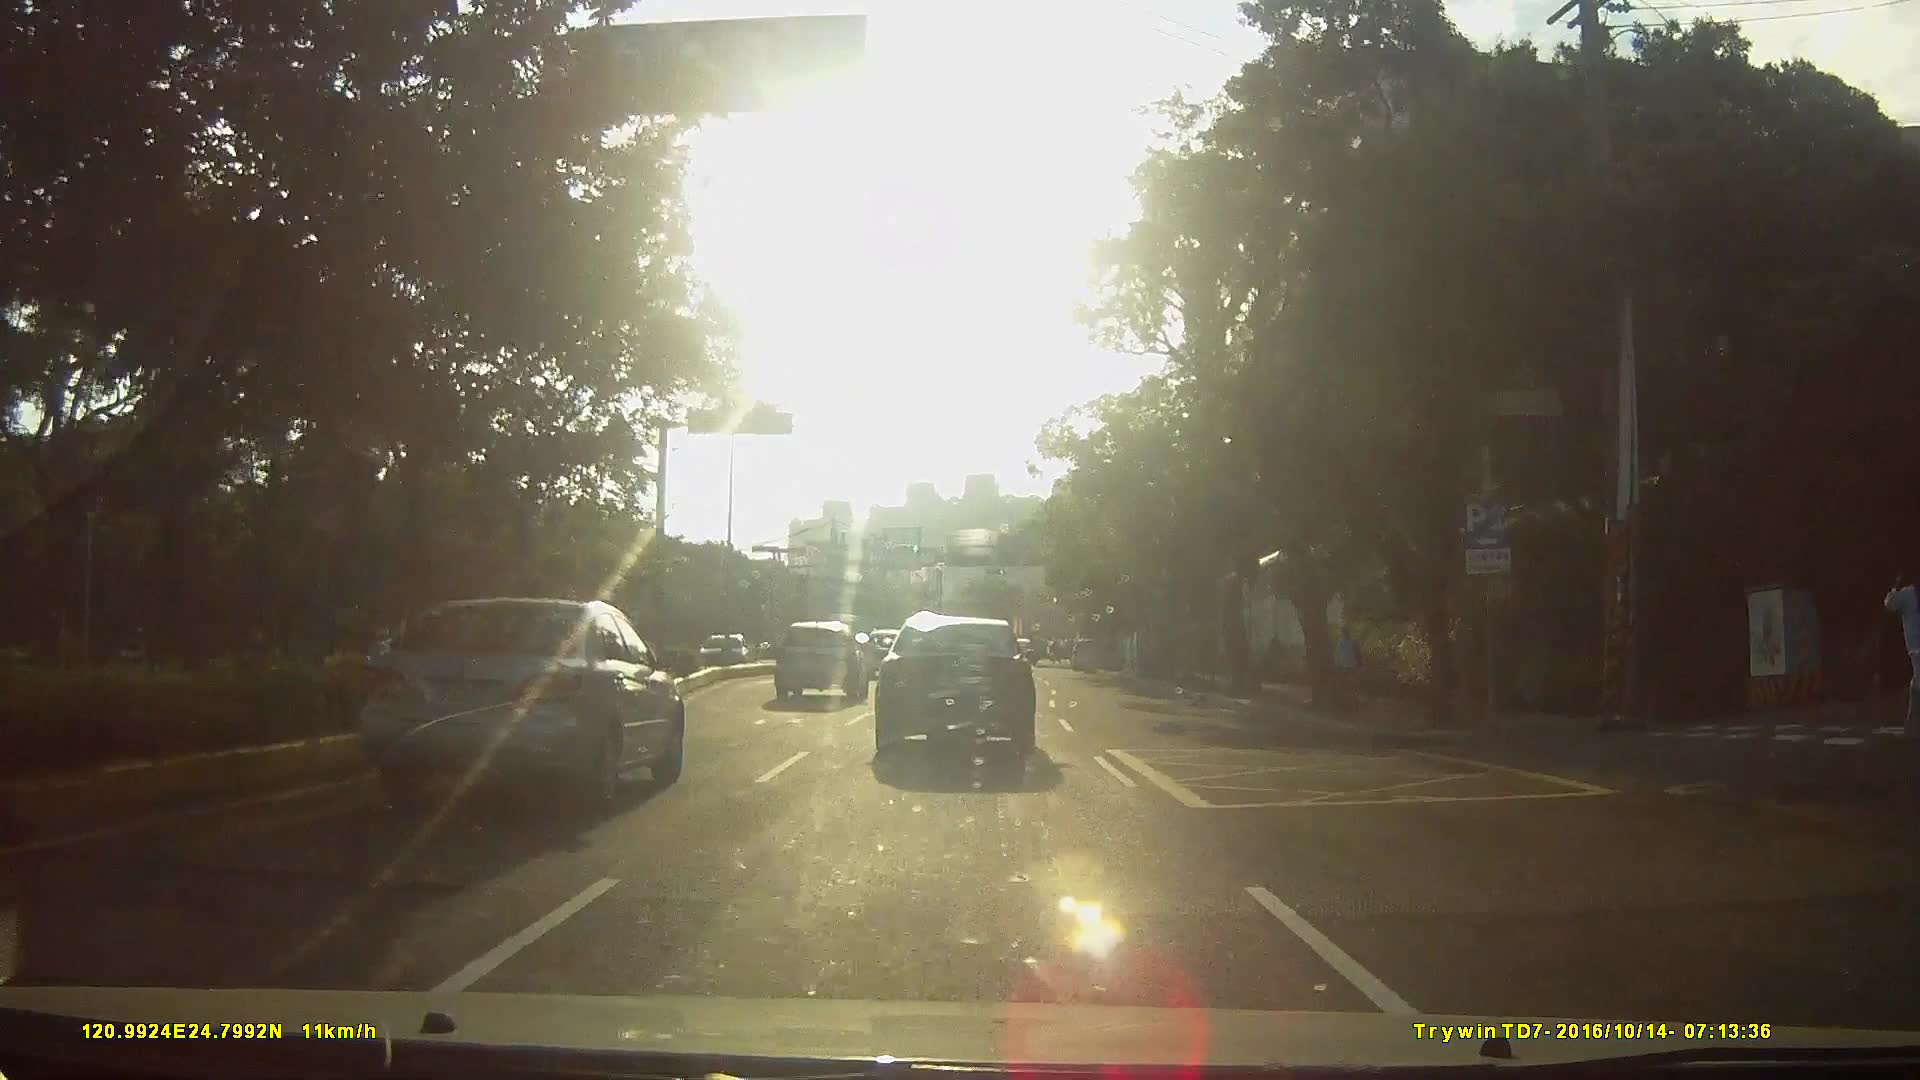vehicle: (355, 595, 684, 808), (868, 620, 1051, 771), (767, 622, 866, 708), (680, 632, 735, 673), (1065, 640, 1102, 675)
